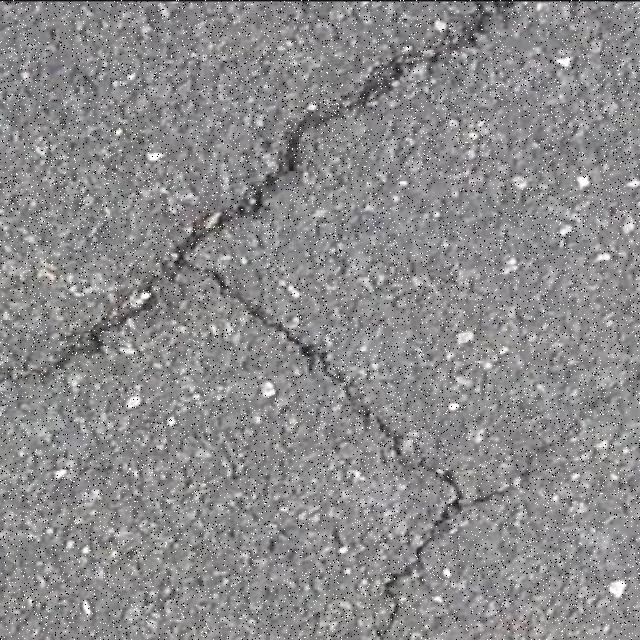Crack: (1, 1, 562, 639)
